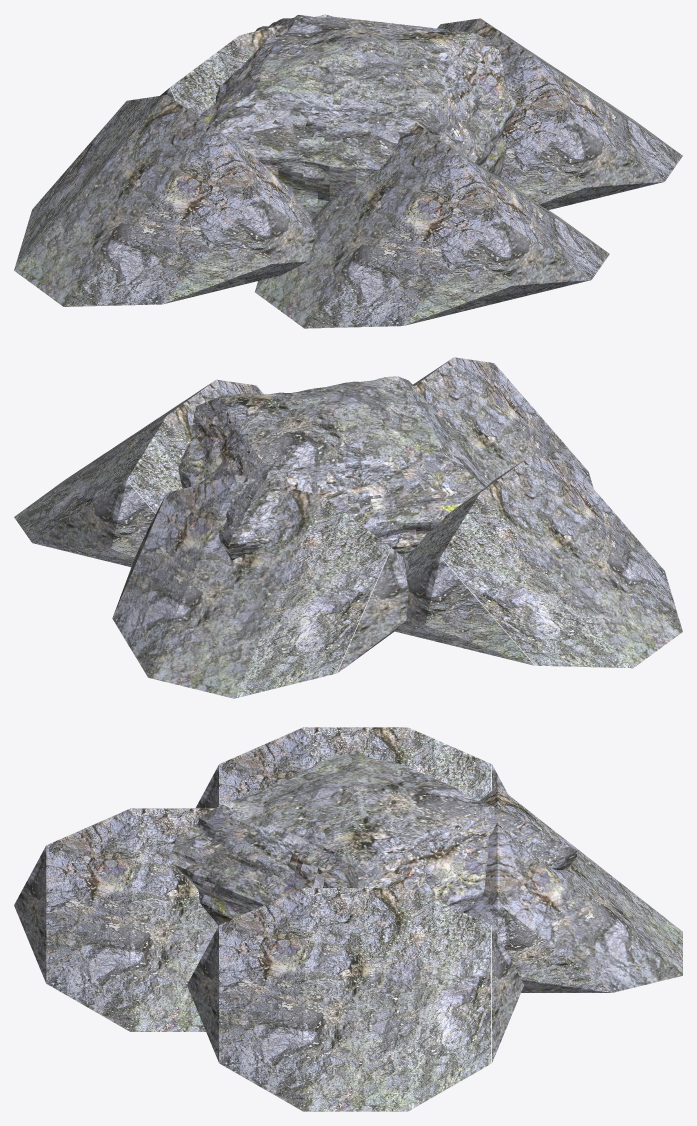
File: Rocks.fbx
The picture shows the model from 3 angles, top to bottom: view 1: azimuth 30°, elevation 25°; view 2: azimuth 150°, elevation 25°; view 3: azimuth 270°, elevation 25°; orthographic projection. The views are drawn at different scales.
Visible parts, largest first — view 1: Sphere.004, Sphere.005, rock.004, Sphere.003, Sphere.006; view 2: Sphere.006, Sphere.004, rock.004, Sphere.003, Sphere.005; view 3: Sphere.003, rock.004, Sphere.005, Sphere.006, Sphere.004.
Part boxes in pixels (x1,y1,x2,y2): Sphere.004: (14,95,316,306); Sphere.005: (255,123,609,328); rock.004: (200,14,515,215); Sphere.003: (437,18,682,210); Sphere.006: (160,14,334,116); Sphere.006: (112,474,409,698); Sphere.004: (395,456,682,668); rock.004: (178,376,492,560); Sphere.003: (14,379,263,566); Sphere.005: (413,357,593,488); Sphere.003: (187,888,523,1111); rock.004: (171,750,576,925); Sphere.005: (14,808,218,1031); Sphere.006: (467,786,682,992); Sphere.004: (196,727,507,808).
Size of the model in its own units: 13.36 by 3.42 by 11.9.
